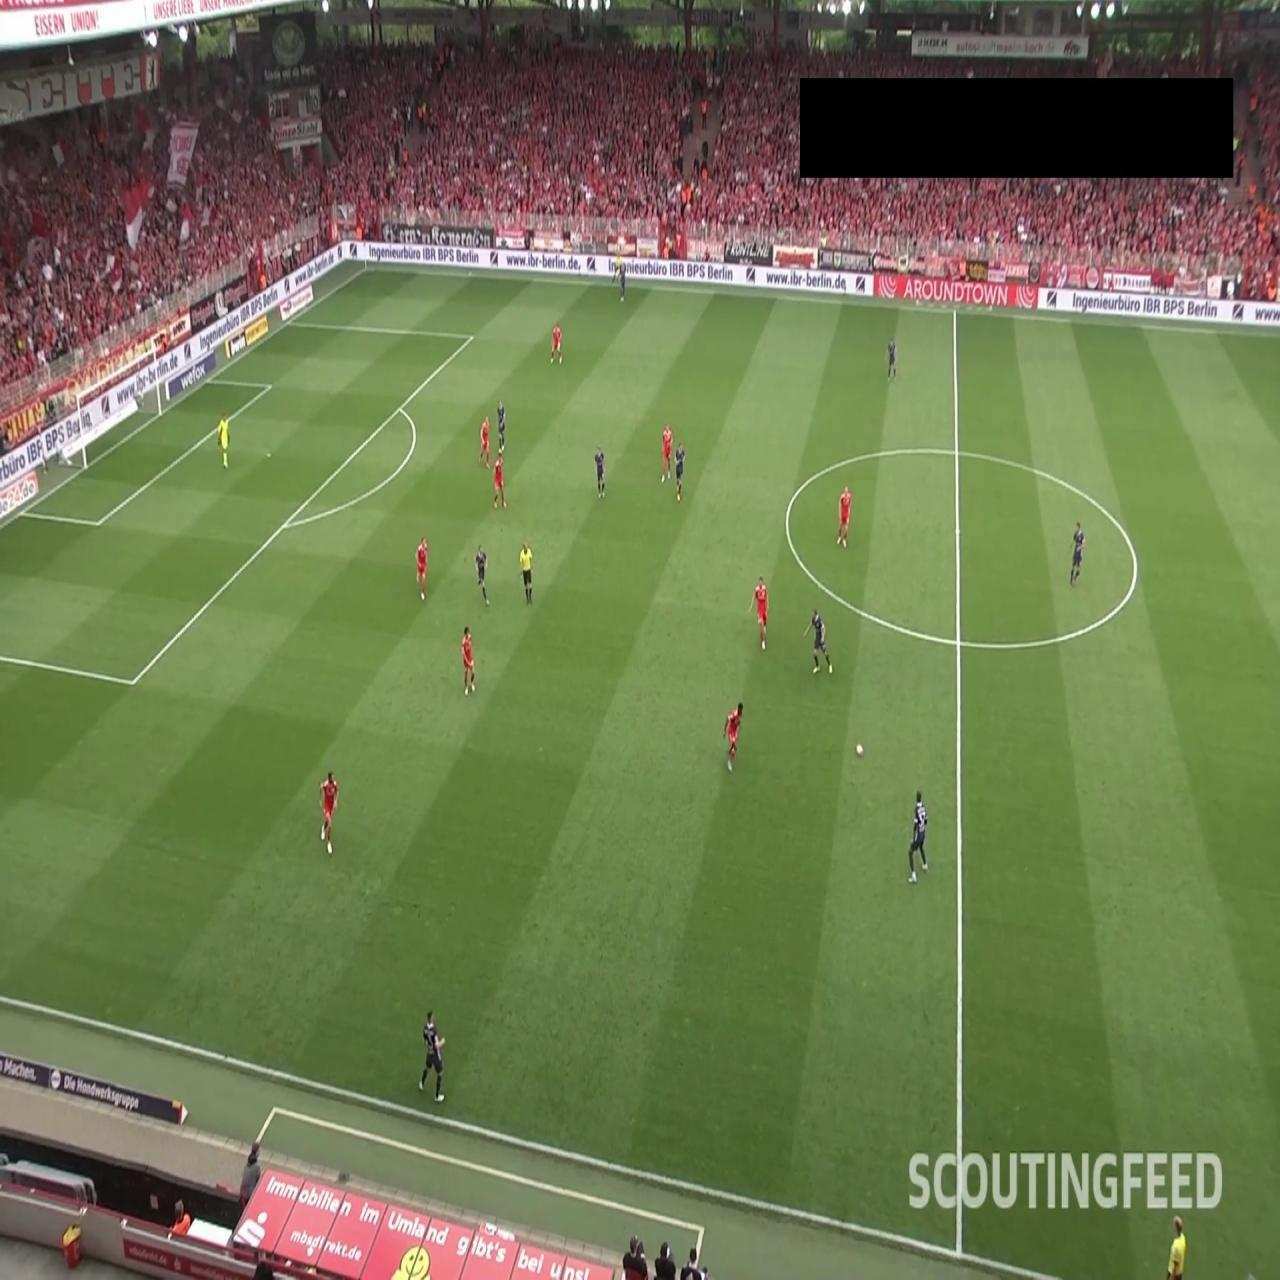ball: (855, 742, 864, 756)
goalkeeper: (217, 412, 230, 469)
player: (418, 1008, 446, 1102), (802, 608, 833, 676), (907, 790, 929, 882), (320, 769, 340, 855), (748, 575, 768, 649), (723, 702, 744, 772), (1069, 520, 1085, 587), (474, 542, 490, 606), (836, 484, 852, 548), (462, 626, 476, 696), (492, 452, 507, 509), (415, 537, 428, 602), (661, 422, 672, 483), (676, 442, 686, 503), (479, 415, 490, 468), (550, 322, 563, 365), (595, 447, 605, 498), (886, 338, 897, 382), (498, 400, 506, 450), (618, 261, 627, 302)
referee: (1166, 1216, 1187, 1279), (520, 540, 534, 604)
